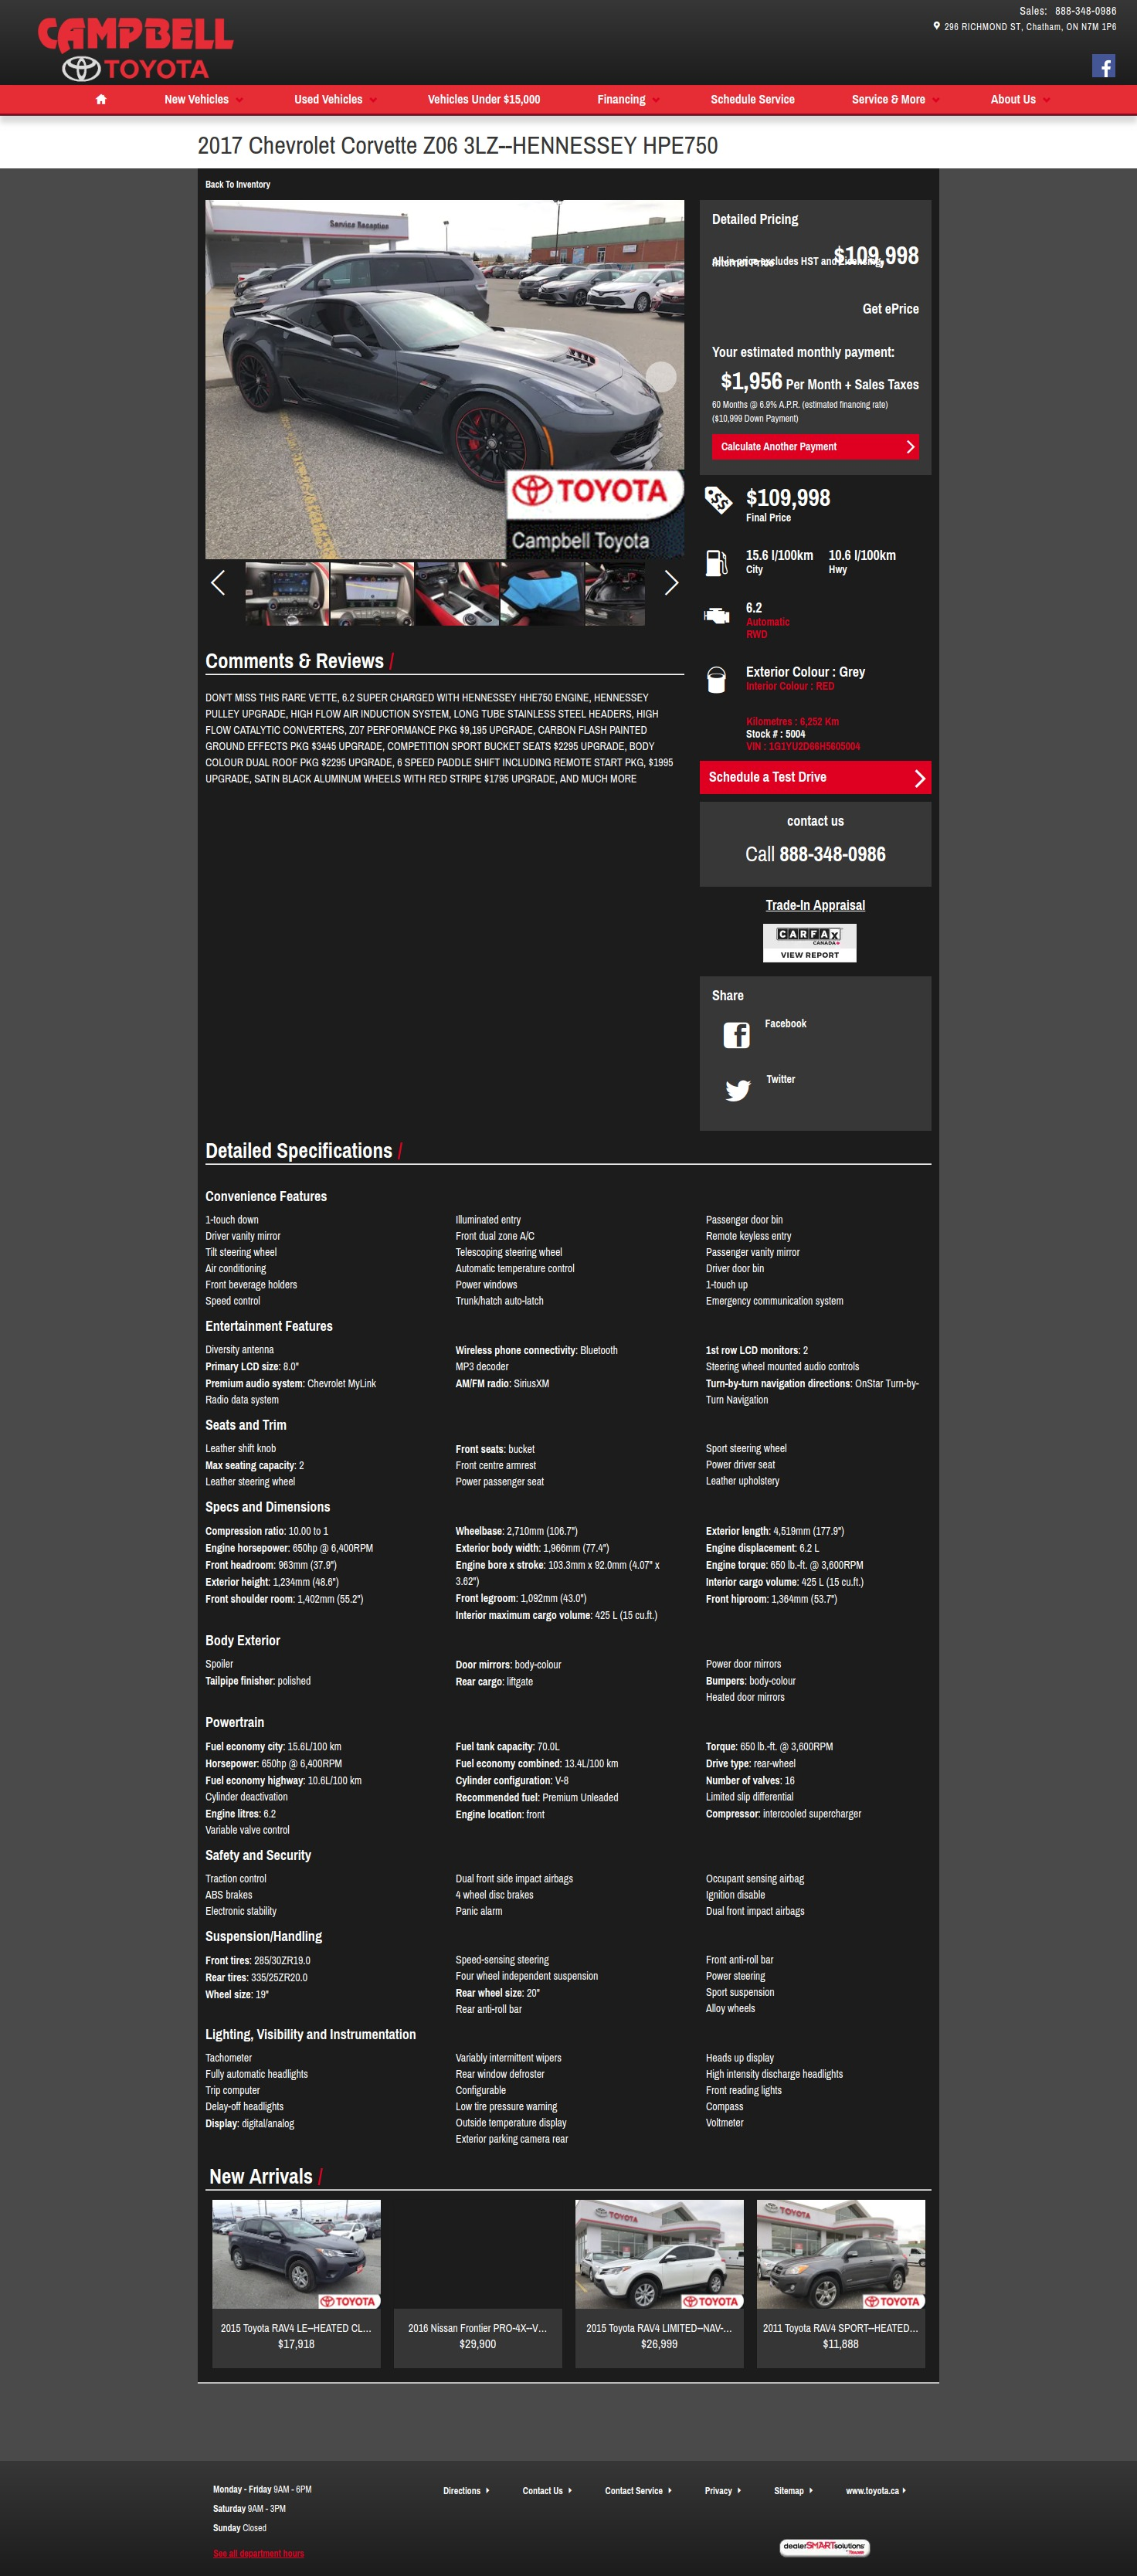car: (661, 570, 682, 596)
